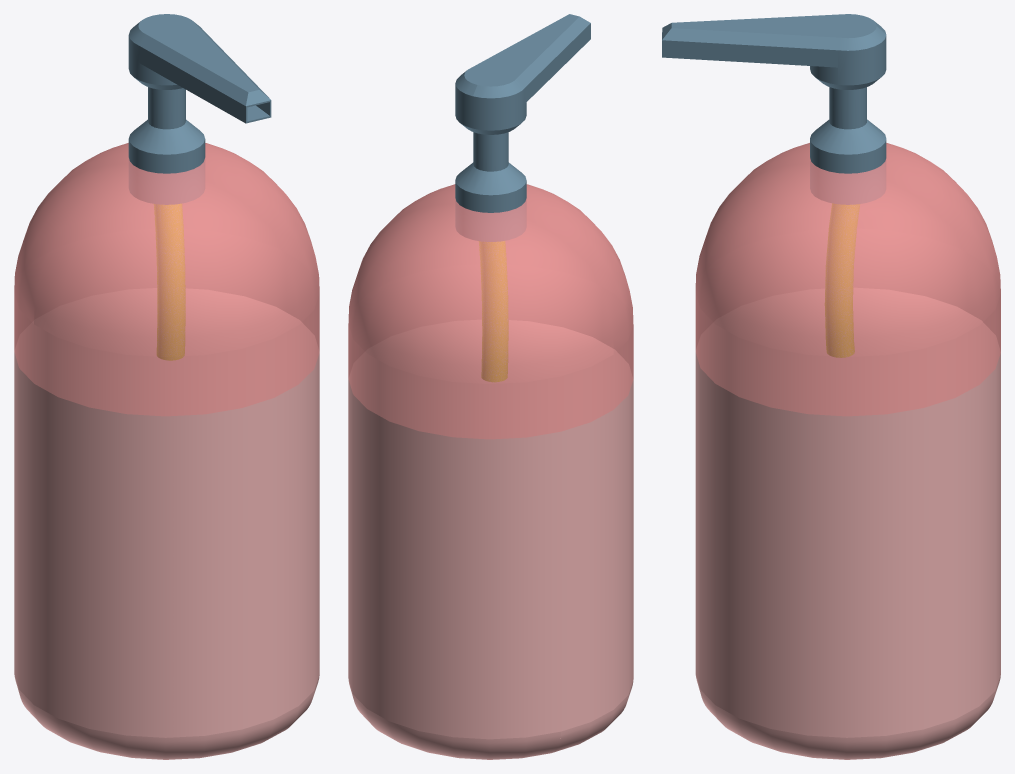
3 renders of one model, left to right at view 1: azimuth 30°, elevation 25°; view 2: azimuth 150°, elevation 25°; view 3: azimuth 270°, elevation 25°, orthographic. The views are drawn at different scales.
Parts seen in each view (by area): view 1: mesh4/mesh4-geometry#mesh4-geometry_mesh4/mesh4-geometry#mesh4-g; view 2: mesh4/mesh4-geometry#mesh4-geometry_mesh4/mesh4-geometry#mesh4-g; view 3: mesh4/mesh4-geometry#mesh4-geometry_mesh4/mesh4-geometry#mesh4-g.
Part boxes in pixels (left/top/right/bottom): mesh4/mesh4-geometry#mesh4-geometry_mesh4/mesh4-geometry#mesh4-g: left=14, top=14, right=319, bottom=759; mesh4/mesh4-geometry#mesh4-geometry_mesh4/mesh4-geometry#mesh4-g: left=348, top=14, right=633, bottom=759; mesh4/mesh4-geometry#mesh4-geometry_mesh4/mesh4-geometry#mesh4-g: left=662, top=14, right=1000, bottom=759.
Bounding box in the file's own units: 0.6934 × 1.71 × 0.7694.
